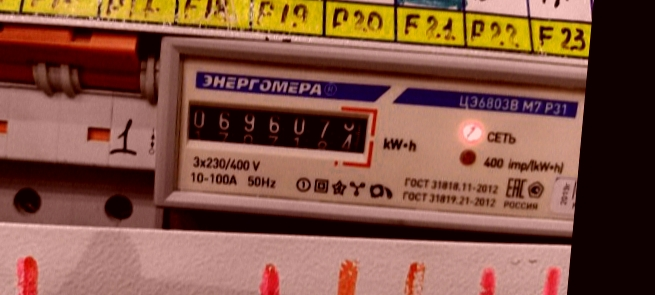0: (291, 114, 308, 137), (191, 108, 207, 130)
4: (339, 131, 354, 154)
6: (216, 109, 232, 131), (266, 114, 282, 135)
7: (316, 118, 332, 140)
9: (241, 111, 256, 134)
screen: (172, 89, 383, 167)
